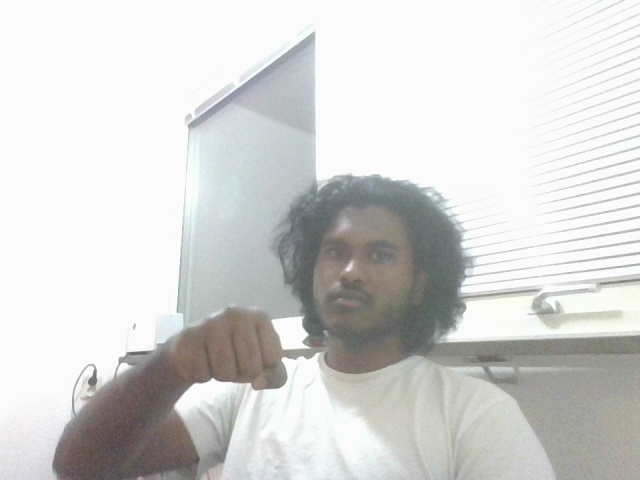Yes: (167, 297, 299, 395)
